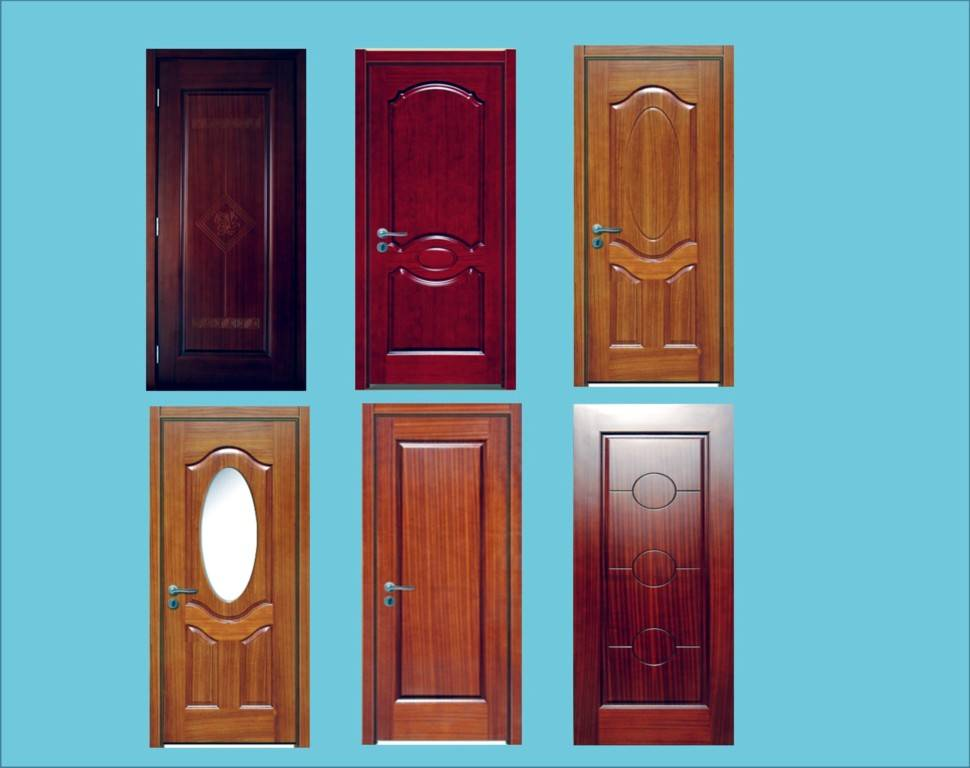door: (574, 46, 733, 386), (362, 48, 517, 387), (577, 409, 731, 748), (151, 52, 307, 383), (367, 407, 517, 743), (155, 408, 304, 744)
